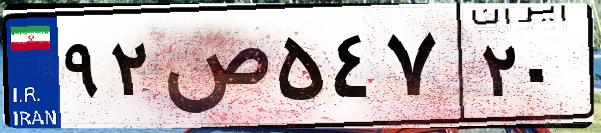0: (525, 38, 570, 115)
2: (475, 38, 525, 113), (110, 28, 158, 98)
4: (330, 28, 385, 110)
5: (270, 28, 330, 110)
7: (385, 28, 445, 110)
9: (57, 26, 110, 100)
ص: (158, 20, 270, 120)
